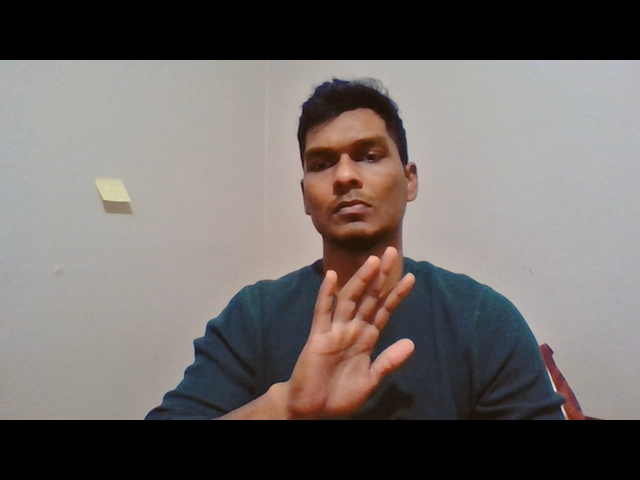Hello: (288, 244, 417, 422)
